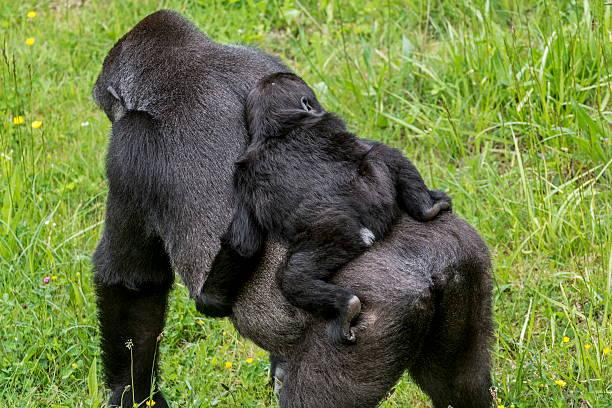gorille_Autres: (54, 5, 499, 401)
